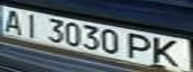0: (100, 27, 124, 55), (60, 20, 81, 47)
3: (42, 16, 66, 44), (81, 24, 103, 52)
A: (0, 7, 27, 35)
I: (18, 11, 45, 38)
K: (148, 36, 190, 70)
P: (124, 31, 157, 60)
